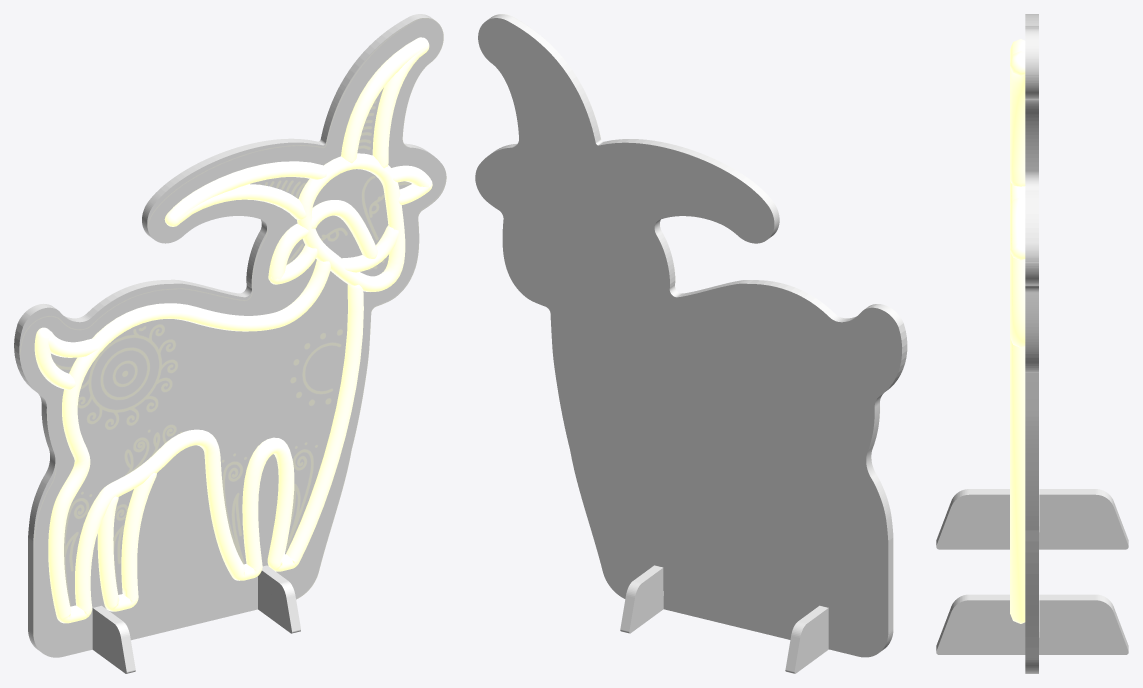
The model's file is КОЗА_25.06.26_.glb.
3 renders of one model, left to right at view 1: azimuth 30°, elevation 25°; view 2: azimuth 150°, elevation 25°; view 3: azimuth 270°, elevation 25°, orthographic. The views are drawn at different scales.
Visible parts, largest first — view 1: Curve.015, Curve.047, Curve.002, Curve.001; view 2: Curve.015, Curve.001; view 3: Curve.001, Curve.047, Curve.015.
Part boxes in pixels (x1,y1,x2,y2): Curve.015: (14, 14, 446, 657); Curve.047: (34, 37, 432, 623); Curve.002: (56, 101, 409, 605); Curve.001: (92, 565, 300, 673); Curve.015: (475, 14, 907, 657); Curve.001: (620, 565, 828, 673); Curve.001: (936, 489, 1128, 654); Curve.047: (1010, 39, 1025, 623); Curve.015: (1025, 14, 1038, 673).
Size of the model in its own units: 0.2351 by 0.29 by 0.0701.
3 materials, 1 textured.
